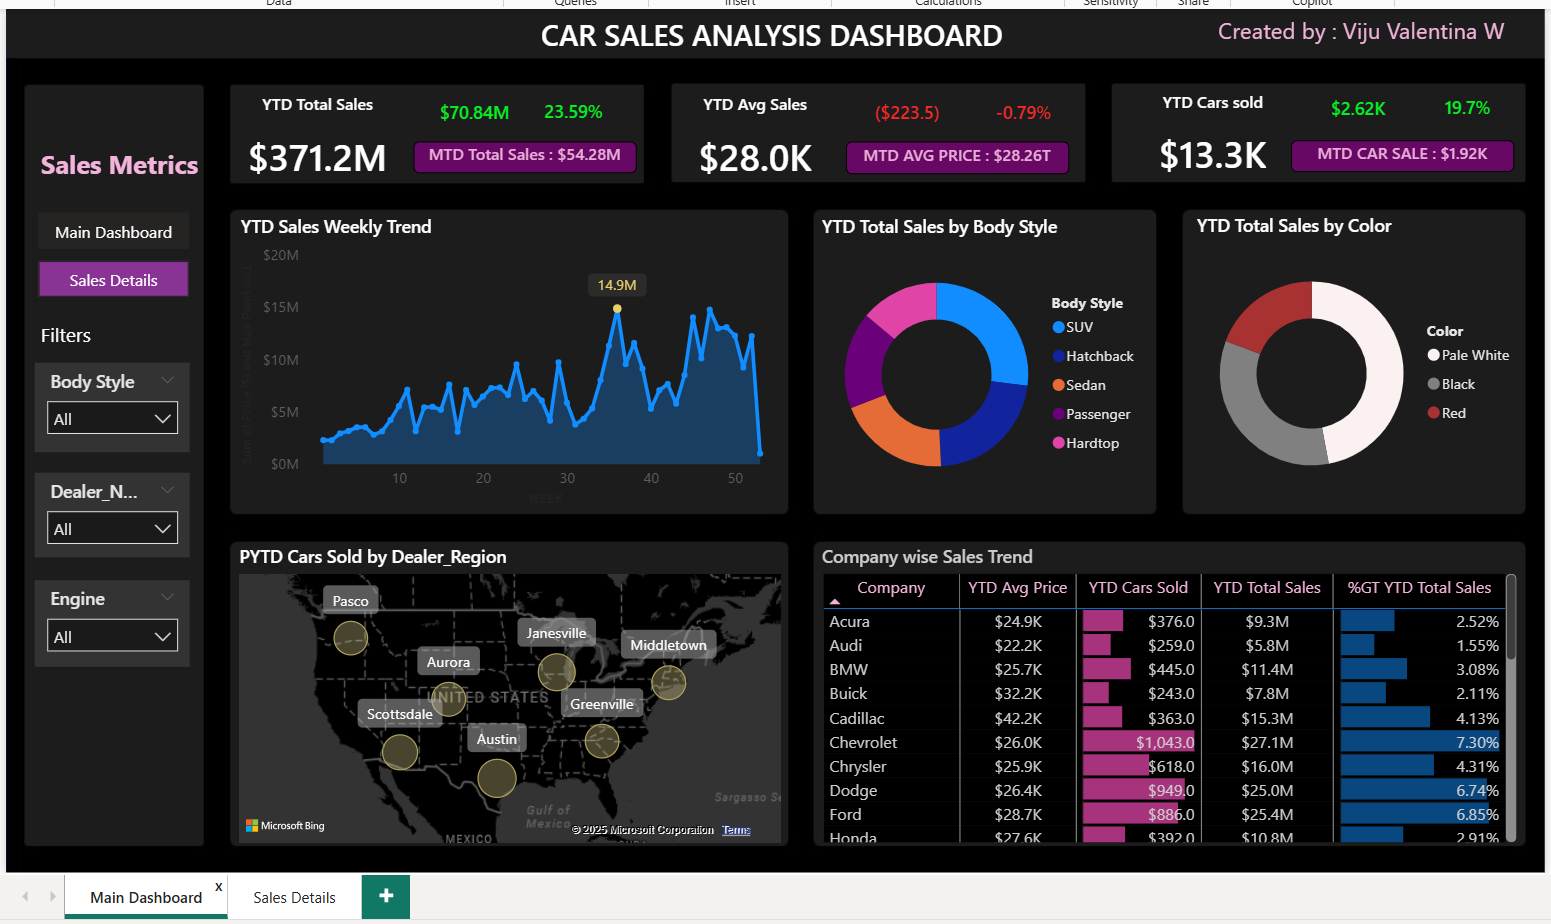

What the dashboard file says about the page in this screenshot:
{"tool":"powerbi","page":{"name":"Main Dashboard","canvas":[1280,720],"ordinal":0},"visuals":[{"type":"cardVisual","title":"YTD Total Sales","fields":{"Data":["CarData_Table.YTD Total Sales"]},"box":[170.1,70.1,177.3,85.6],"z":0},{"type":"card","fields":{"Values":["CarData_Table.MTD KPI"]},"box":[338.7,109.9,185.9,26.8],"z":1000},{"type":"card","fields":{"Values":["CarData_Table.Sales Difference"]},"box":[347.2,70,85.1,37],"z":2000},{"type":"card","fields":{"Values":["CarData_Table.YOY Sales Growth"]},"box":[433,67,77.3,42.3],"z":3000},{"type":"cardVisual","title":"YTD Avg Sales","fields":{"Data":["CarData_Table.YTD Avg Price"]},"box":[539.2,70.1,167,85.6],"z":4000},{"type":"card","fields":{"Values":["CarData_Table.Avg Price Diff"]},"box":[706.2,70.1,85.6,37.1],"z":5000},{"type":"card","fields":{"Values":["CarData_Table.YOY Avg Price Growth"]},"box":[803.1,70.1,85.6,37.1],"z":6000},{"type":"card","fields":{"Values":["CarData_Table.MTD AVG KPI"]},"box":[698.6,110,185.7,27.1],"z":7000},{"type":"cardVisual","title":"YTD Cars sold","fields":{"Data":["CarData_Table.YTD Cars Sold"]},"box":[919.8,67.4,167.4,86],"z":8000},{"type":"card","fields":{"Values":["CarData_Table.Cars Sold diff"]},"box":[1086.7,66.7,74.4,36.7],"z":9000},{"type":"card","fields":{"Values":["CarData_Table.YOY Cars sold growth"]},"box":[1168.9,66.7,92.2,35.6],"z":10000},{"type":"card","fields":{"Values":["CarData_Table.MTD Car KPI"]},"box":[1068.8,109.4,185.9,26.6],"z":11000},{"type":"lineChart","title":"YTD Sales Weekly Trend","fields":{"Category":["Calender Table.WEEK"],"Y":["Sum(CarData_Table.Price ($))","CarData_Table.Max Point on Line graph"]},"box":[190,170,459,248],"z":12000},{"type":"donutChart","fields":{"Category":["CarData_Table.Body Style"],"Y":["CarData_Table.YTD Total Sales"]},"box":[673.8,170,278.8,247.5],"z":13000},{"type":"map","fields":{"Category":["CarData_Table.Dealer_Region"],"Size":["CarData_Table.PYTD Cars Sold"]},"box":[189.4,445.1,459.9,253.5],"z":14000},{"type":"tableEx","title":"Company wise Sales Trend","fields":{"Values":["CarData_Table.Company","CarData_Table.YTD Avg Price","CarData_Table.YTD Cars Sold","CarData_Table.YTD Total Sales1","CarData_Table.YTD Total Sales"]},"box":[673.5,445.1,587.6,253.1],"z":15000},{"type":"donutChart","fields":{"Y":["CarData_Table.YTD Total Sales"],"Category":["CarData_Table.Color"]},"box":[984.9,169.8,279.1,247.7],"z":16000},{"type":"textbox","box":[389.6,0,494,41.8],"z":17000},{"type":"slicer","fields":{"Values":["CarData_Table.Body Style"]},"box":[24,294,129,74.5],"z":18000},{"type":"slicer","fields":{"Values":["CarData_Table.Dealer_Name"]},"box":[24,386,129,70.5],"z":19000},{"type":"slicer","fields":{"Values":["CarData_Table.Engine"]},"box":[24,475,129,72],"z":20000},{"type":"textbox","box":[23.9,254.5,110.2,38.6],"z":21000},{"type":"textbox","box":[23.7,109.3,146.6,42.4],"z":22000},{"type":"pageNavigator","box":[27.1,169.5,125.4,71.2],"z":23000},{"type":"textbox","box":[1003.3,0,258.2,41.8],"z":24000}]}

Visuals, with their boxes on the page's 1280x720 design canvas (x1, y1, x2, y2). These are canvas units, not pixel positions in the 1551x924 screenshot, which may show the page scaled, cropped or inside an application window:
"YTD Total Sales" cardVisual: x1=170 y1=70 x2=347 y2=156
card - CarData_Table.MTD KPI: x1=339 y1=110 x2=525 y2=137
card - CarData_Table.Sales Difference: x1=347 y1=70 x2=432 y2=107
card - CarData_Table.YOY Sales Growth: x1=433 y1=67 x2=510 y2=109
"YTD Avg Sales" cardVisual: x1=539 y1=70 x2=706 y2=156
card - CarData_Table.Avg Price Diff: x1=706 y1=70 x2=792 y2=107
card - CarData_Table.YOY Avg Price Growth: x1=803 y1=70 x2=889 y2=107
card - CarData_Table.MTD AVG KPI: x1=699 y1=110 x2=884 y2=137
"YTD Cars sold" cardVisual: x1=920 y1=67 x2=1087 y2=153
card - CarData_Table.Cars Sold diff: x1=1087 y1=67 x2=1161 y2=103
card - CarData_Table.YOY Cars sold growth: x1=1169 y1=67 x2=1261 y2=102
card - CarData_Table.MTD Car KPI: x1=1069 y1=109 x2=1255 y2=136
"YTD Sales Weekly Trend" lineChart: x1=190 y1=170 x2=649 y2=418
donutChart - CarData_Table.Body Style x CarData_Table.YTD Total Sales: x1=674 y1=170 x2=953 y2=418
map - CarData_Table.Dealer_Region x CarData_Table.PYTD Cars Sold: x1=189 y1=445 x2=649 y2=699
"Company wise Sales Trend" tableEx: x1=674 y1=445 x2=1261 y2=698
donutChart - CarData_Table.YTD Total Sales x CarData_Table.Color: x1=985 y1=170 x2=1264 y2=418
textbox: x1=390 y1=0 x2=884 y2=42
slicer - CarData_Table.Body Style: x1=24 y1=294 x2=153 y2=368
slicer - CarData_Table.Dealer_Name: x1=24 y1=386 x2=153 y2=456
slicer - CarData_Table.Engine: x1=24 y1=475 x2=153 y2=547
textbox: x1=24 y1=254 x2=134 y2=293
textbox: x1=24 y1=109 x2=170 y2=152
pageNavigator: x1=27 y1=170 x2=152 y2=241
textbox: x1=1003 y1=0 x2=1262 y2=42
